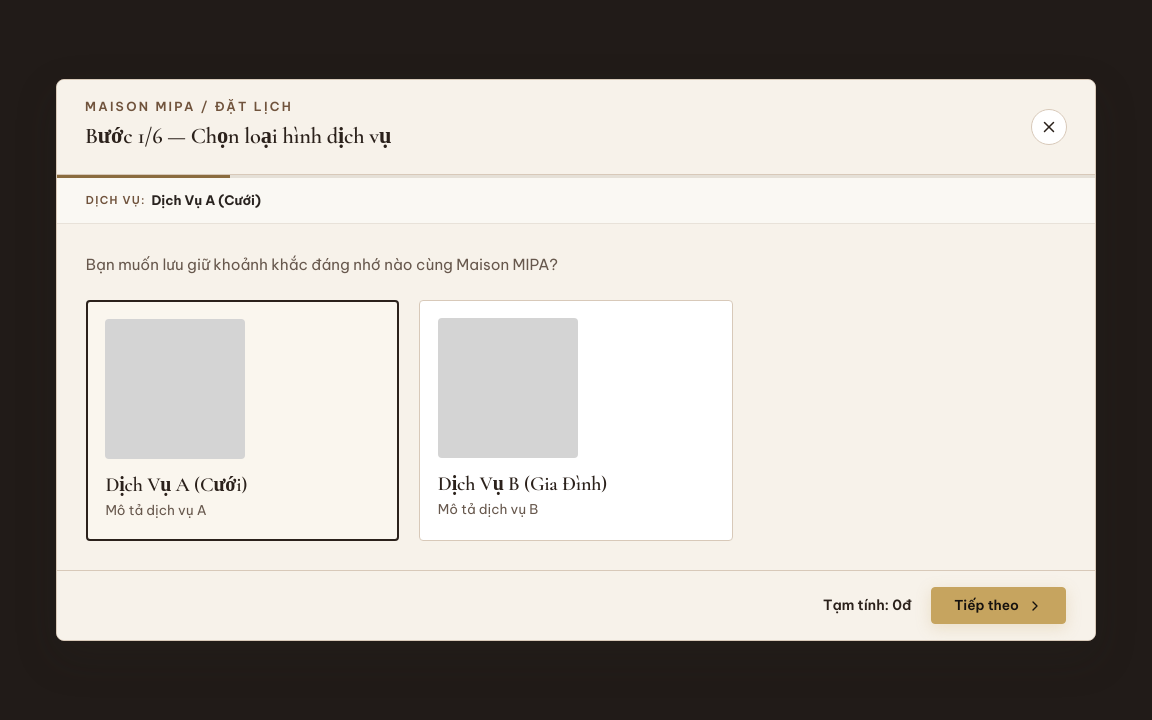
Production Booking Wizard Fail-Closed Policy › 4. service A + concept from service B is allowed under flexible concept contract
Expected: the heading "Dịch Vụ A (Cưới)" is shown, [105,473,247,497]
Step 1. Click the button "Tiếp theo" → (998, 606), box [931,587,1066,624]
(page scrolled)
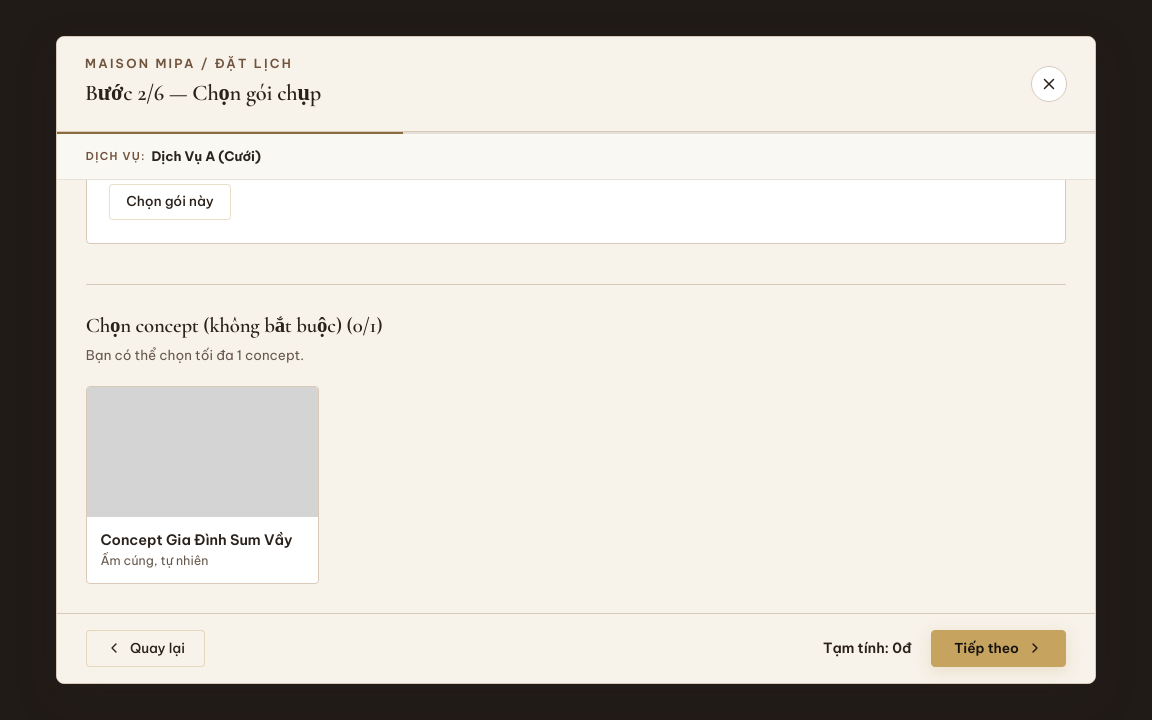
Result: the text "Concept Gia Đình Sum Vầy" is shown at [100,530,304,548]
